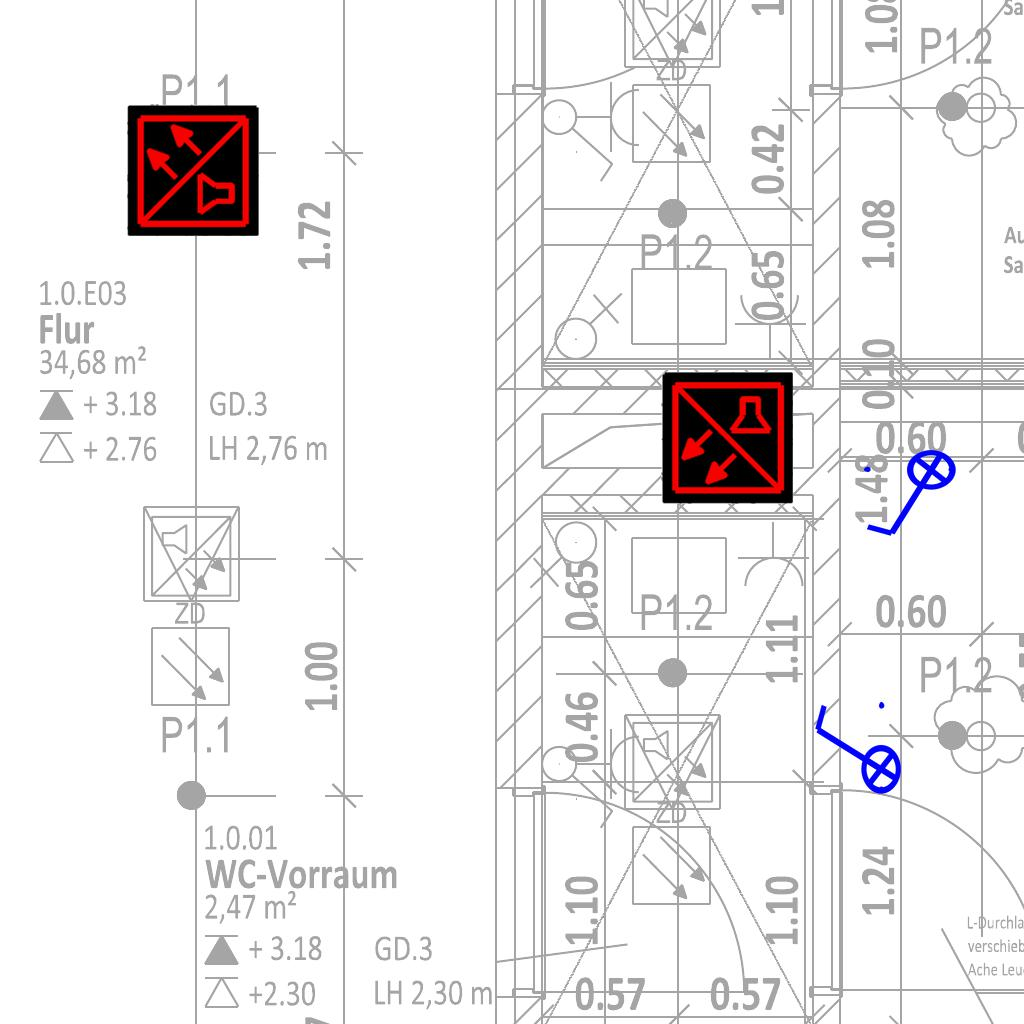Ausschalter_beleuchtet: (858, 448, 970, 544), (807, 696, 903, 808)
OKW_Multisensormelder_(Kombination_optischer_Rauch-Kahlenmonoxid_Waerme-Melder): (661, 372, 793, 504), (127, 104, 259, 236)
